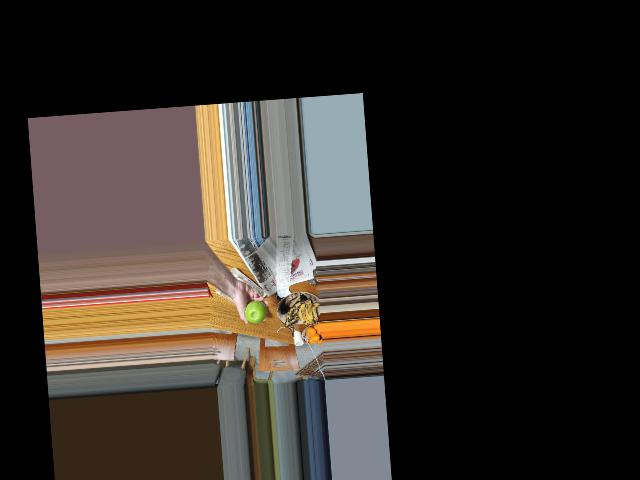apple: (243, 298, 268, 327)
